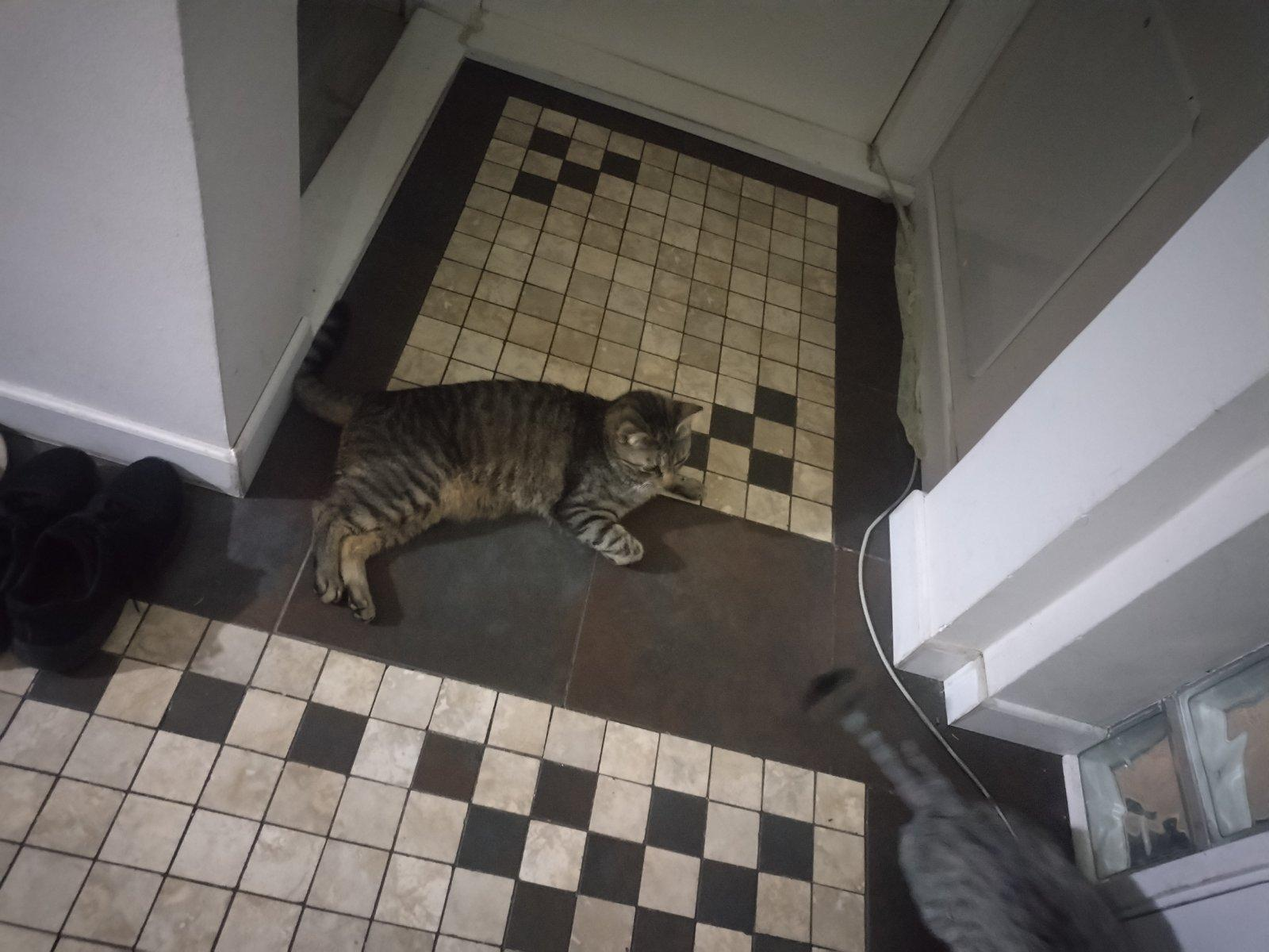macka: (292, 305, 706, 624), (808, 668, 1137, 951)
